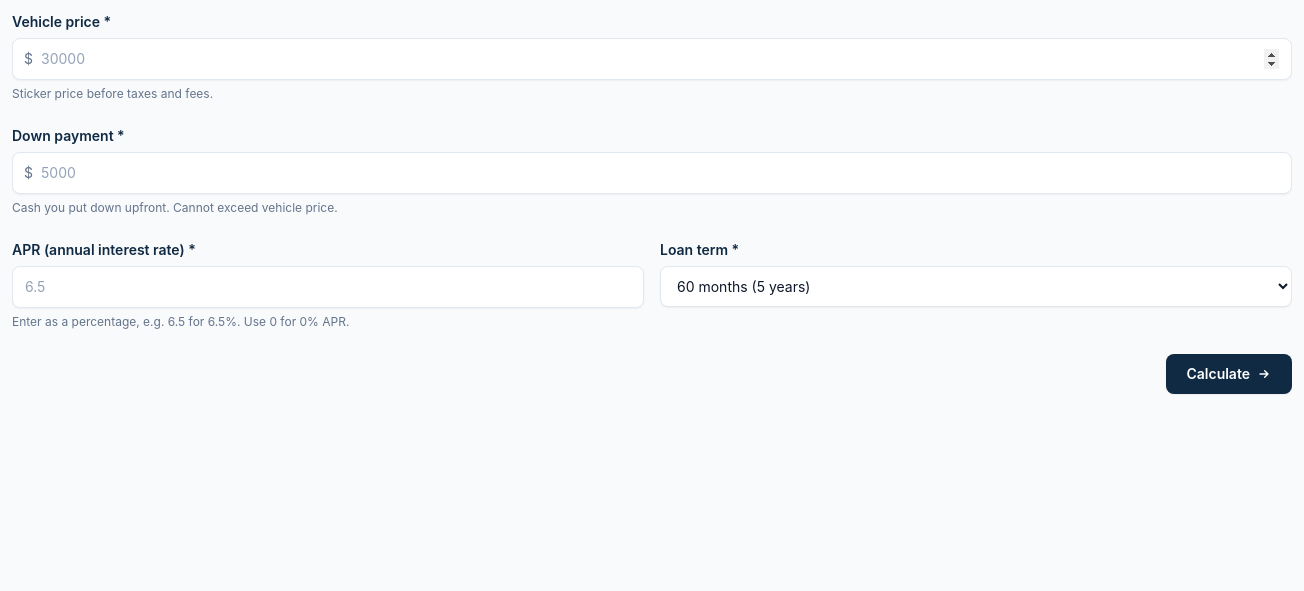
Test: FinanceCalc › rejects down payment greater than vehicle price
The width and height of the screenshot is (1304, 591).
Type "20000" into the number field labelled "Vehicle price *" at point(652, 59), box [12,38,1292,80]
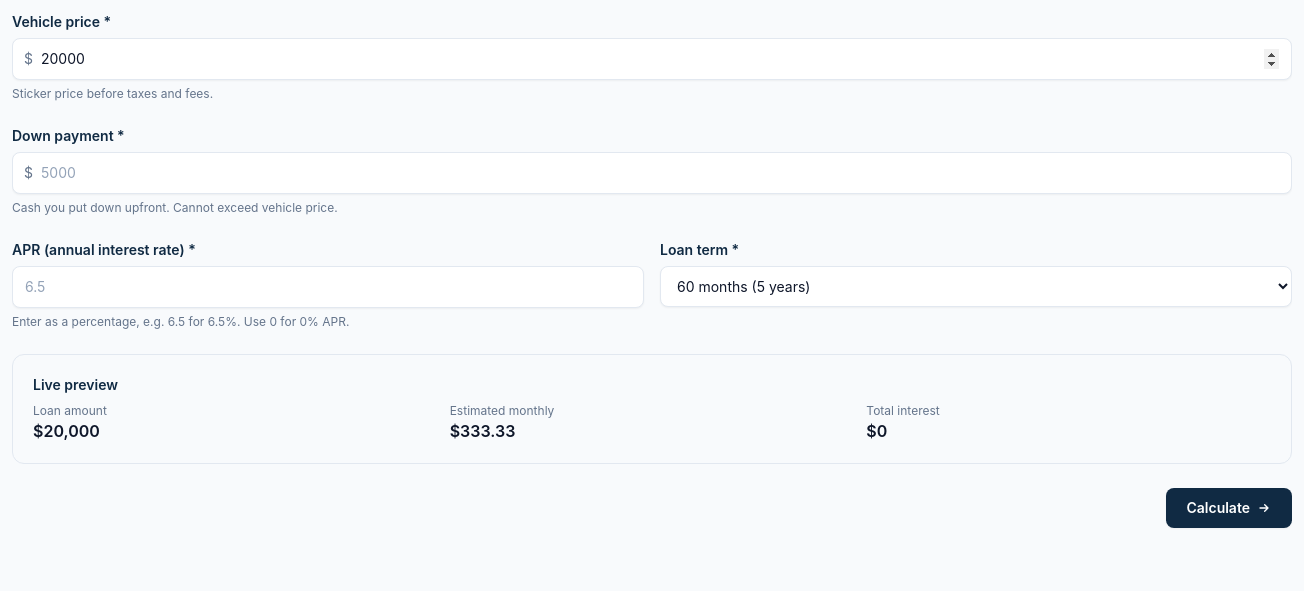
Type "25000" into the number field labelled "Down payment *" at point(652, 173), box [12,152,1292,194]
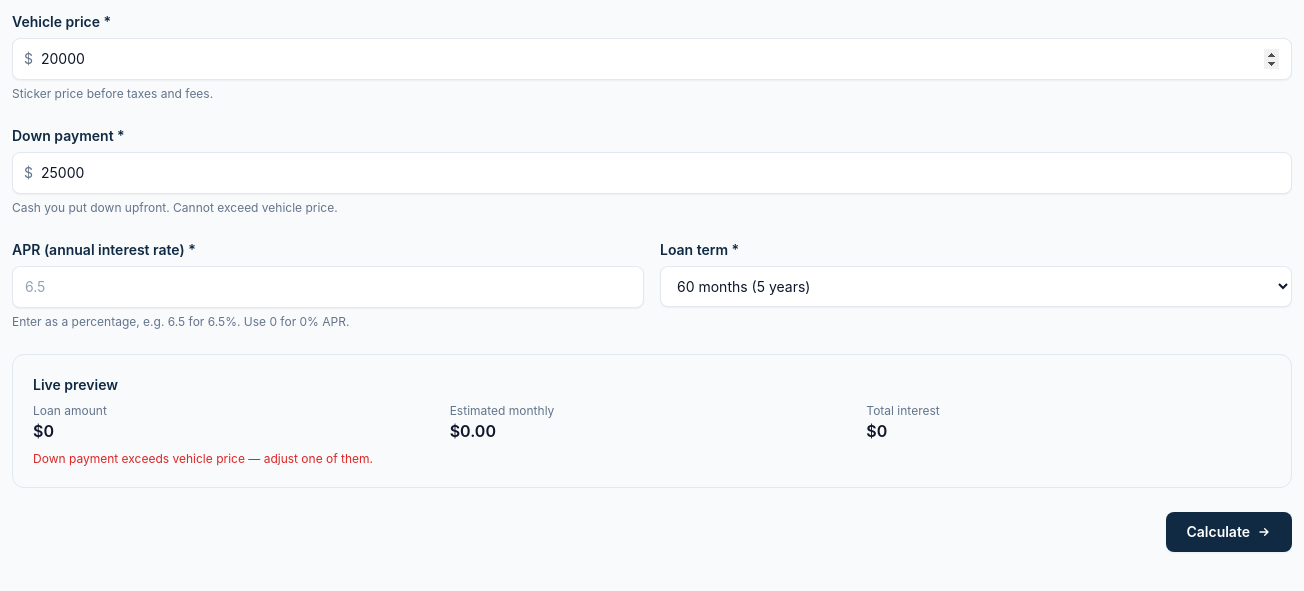
Type "6" into the number field labelled "APR (annual interest rate) *" at point(328, 287), box [12,266,644,308]
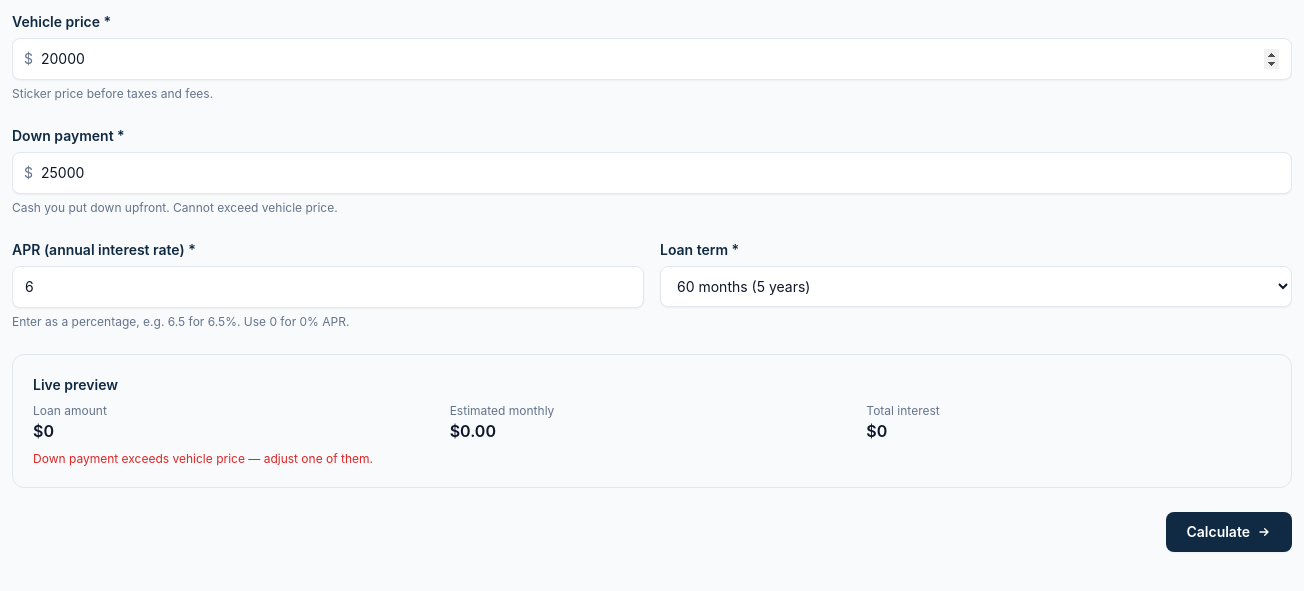
Click the button "Calculate" at point(1229, 532), box [1166,512,1292,552]
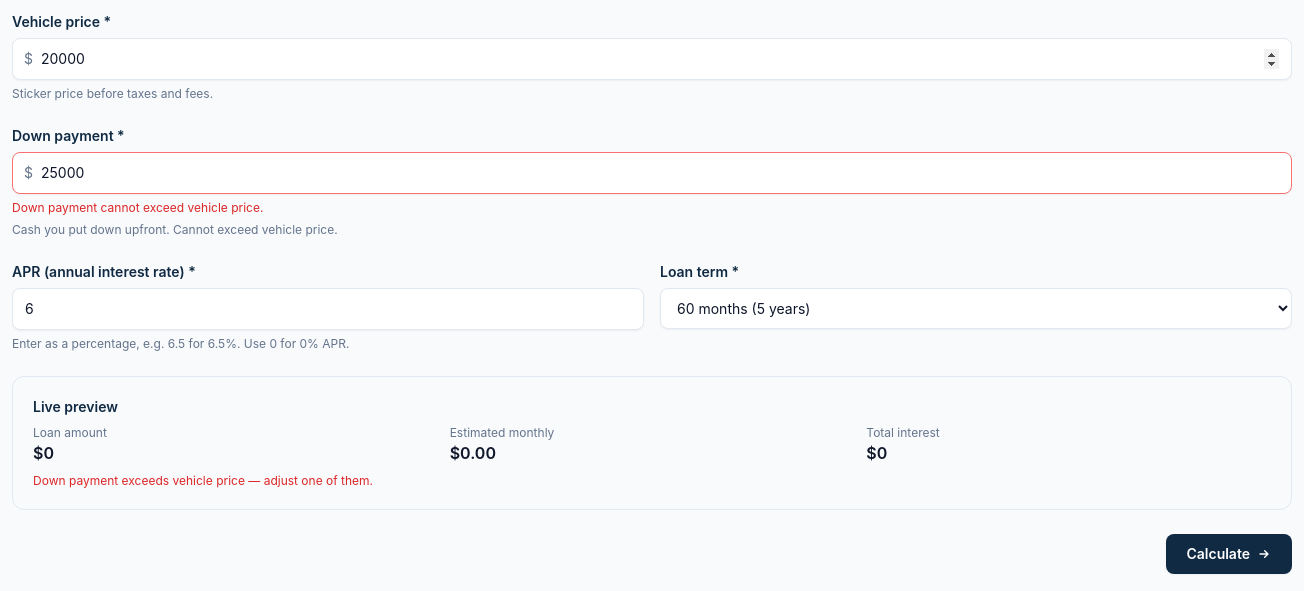
Expected: the text "Down payment cannot exceed vehicle price." is shown, [12,200,263,215]
